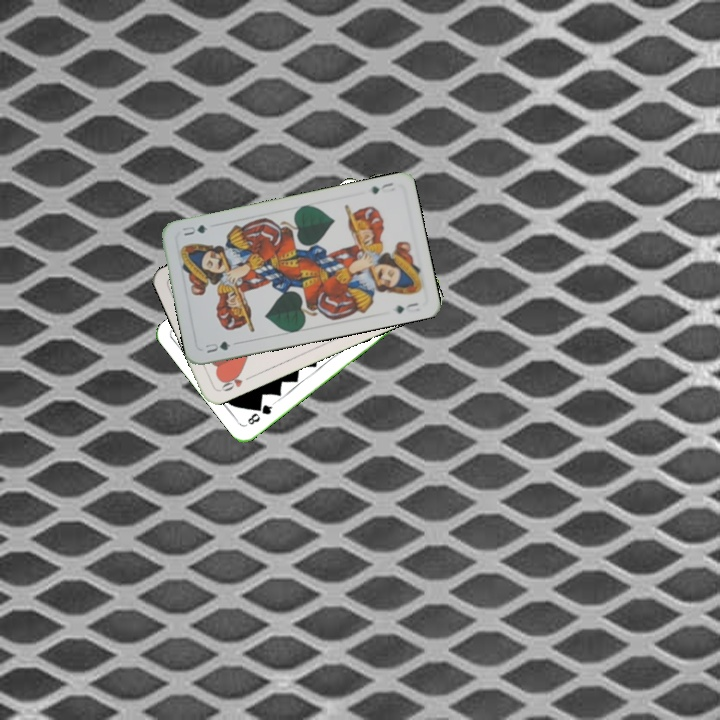G8: (243, 399, 277, 427)
GU: (201, 337, 233, 356), (367, 178, 396, 196)
HO: (216, 369, 254, 394)
